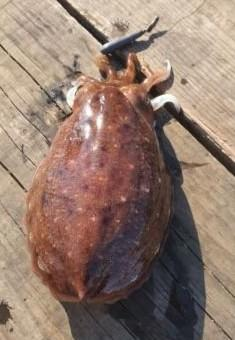Cephalopod: (23, 53, 179, 301)
